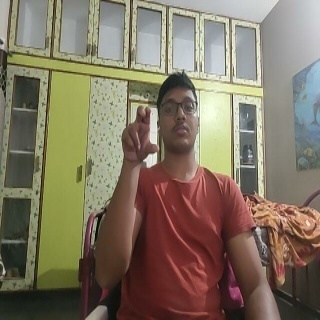No: (120, 104, 161, 162)
